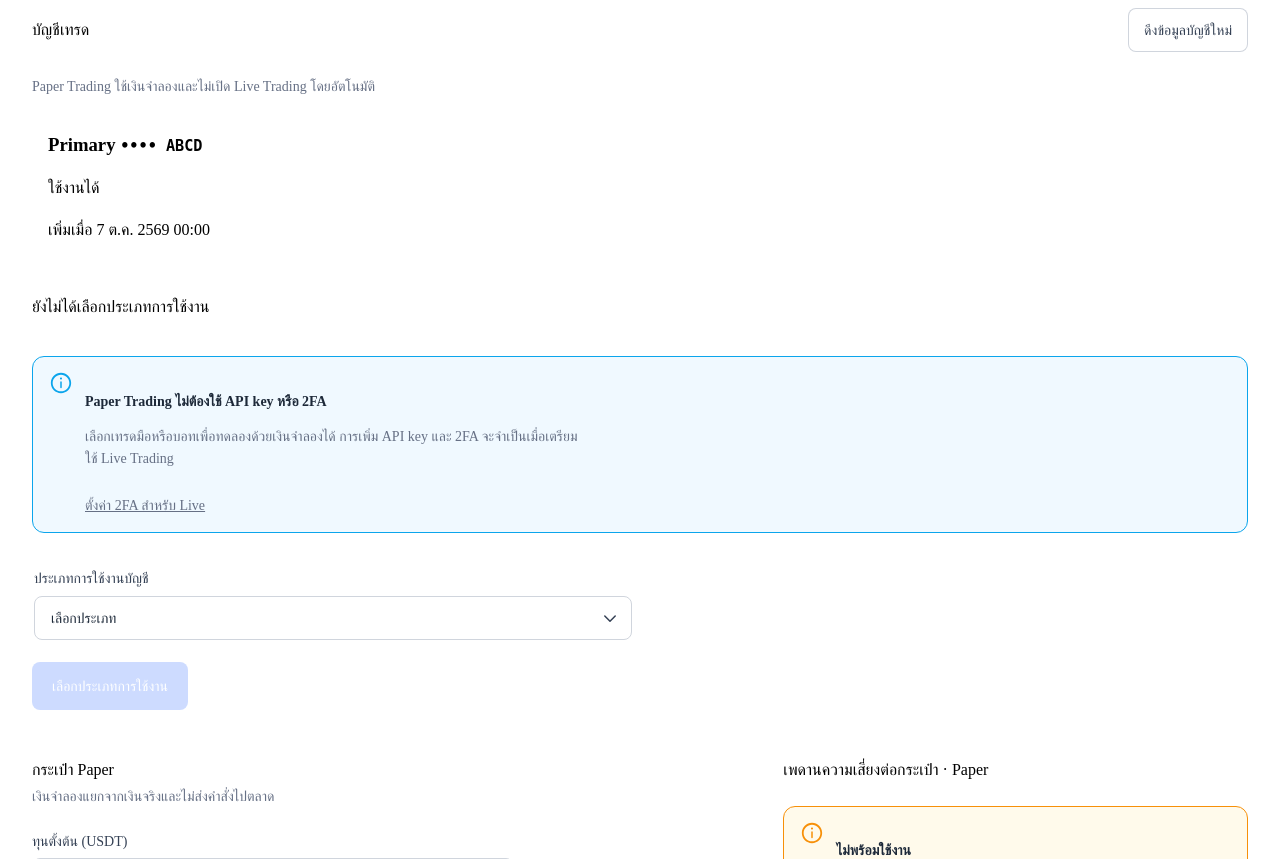
Test: selects BOT with CSRF, no TOTP and refetches server choice
Expected: the text "ยังไม่ได้เลือกประเภทการใช้งาน" is shown, [32,298,209,315]
Select "บอท" in the dropdown labelled "ประเภทการใช้งานบัญชี" at (333, 618), box [34,596,632,640]
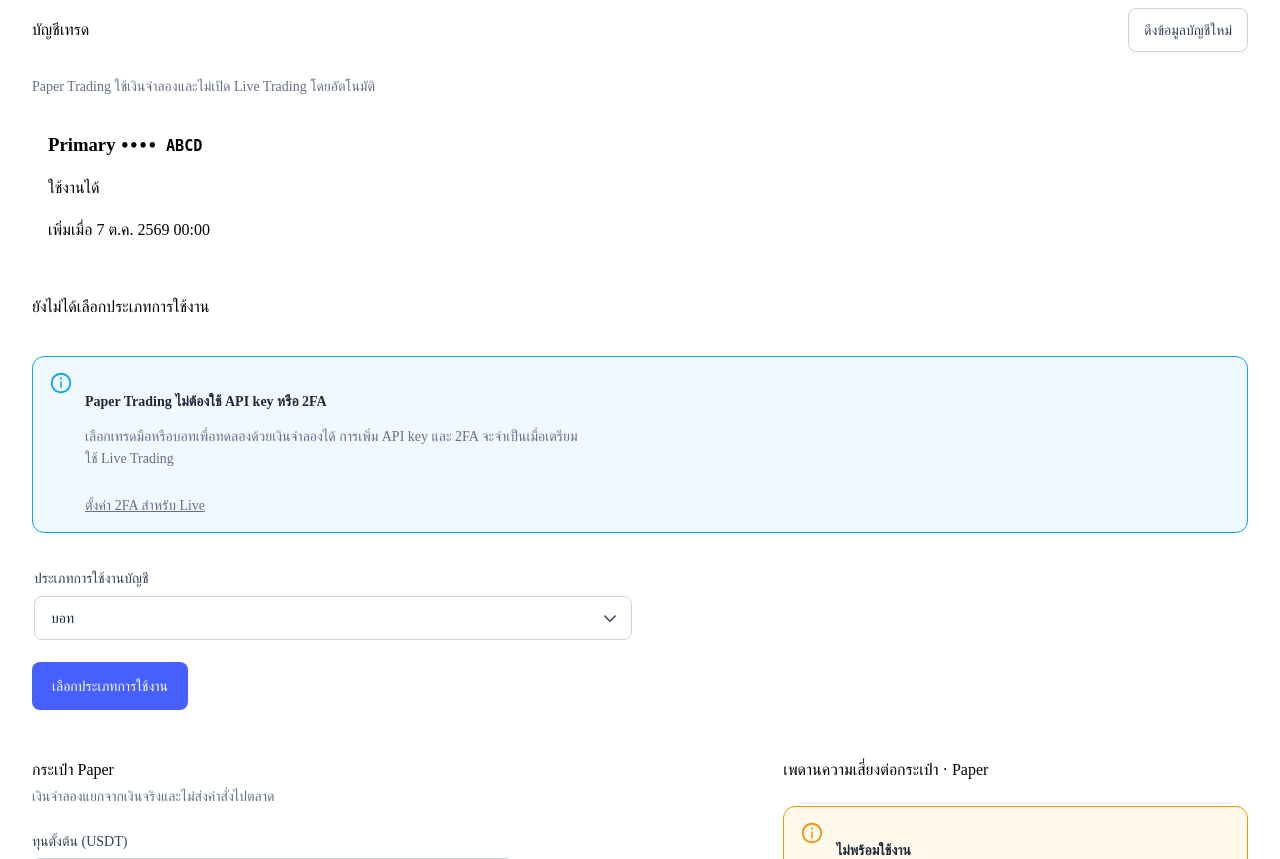
Click the button "เลือกประเภทการใช้งาน".
click(110, 686)  # box [32,662,188,710]
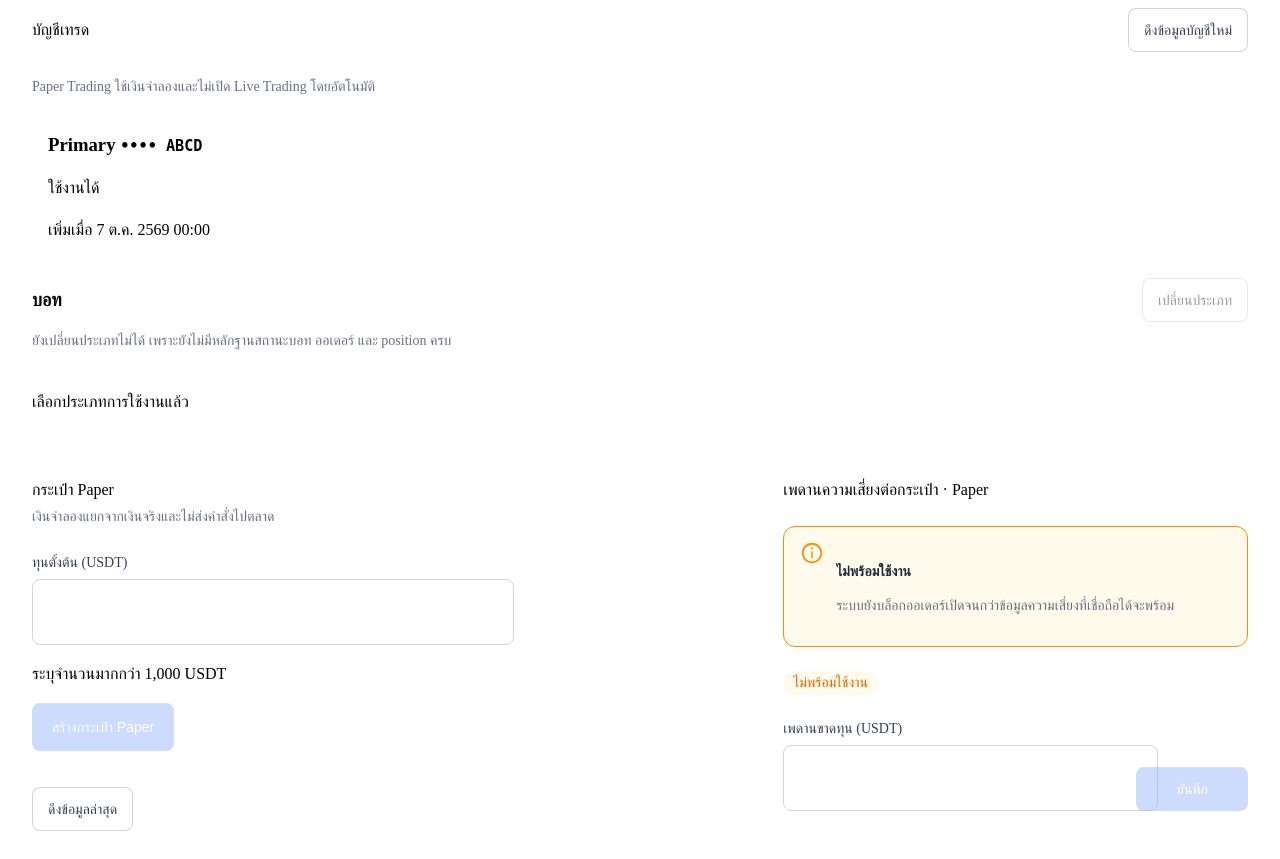
Result: the text "เลือกประเภทการใช้งานแล้ว" is shown at [32,393,189,410]
Result: the heading "บอท" is shown at [32,290,62,310]
Result: the button "เปลี่ยนประเภท" is disabled at [1142,278,1248,322]
